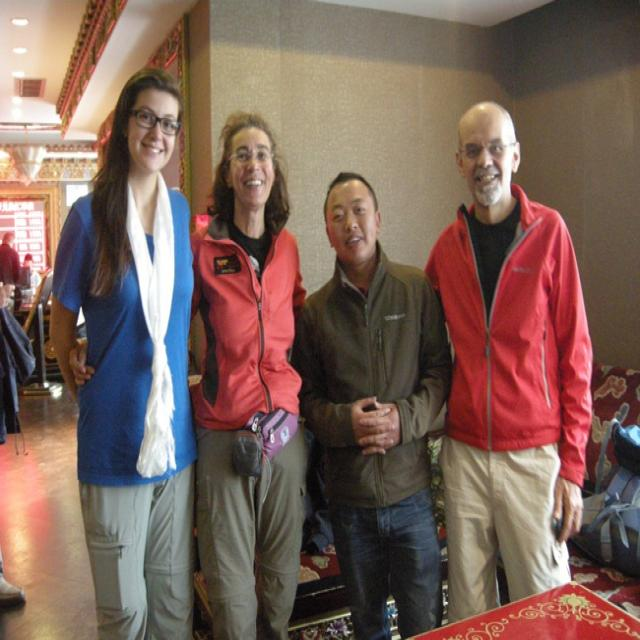body: (68, 110, 308, 639), (424, 101, 595, 620), (46, 63, 196, 639), (297, 164, 458, 639), (0, 219, 48, 614), (299, 505, 336, 552)
